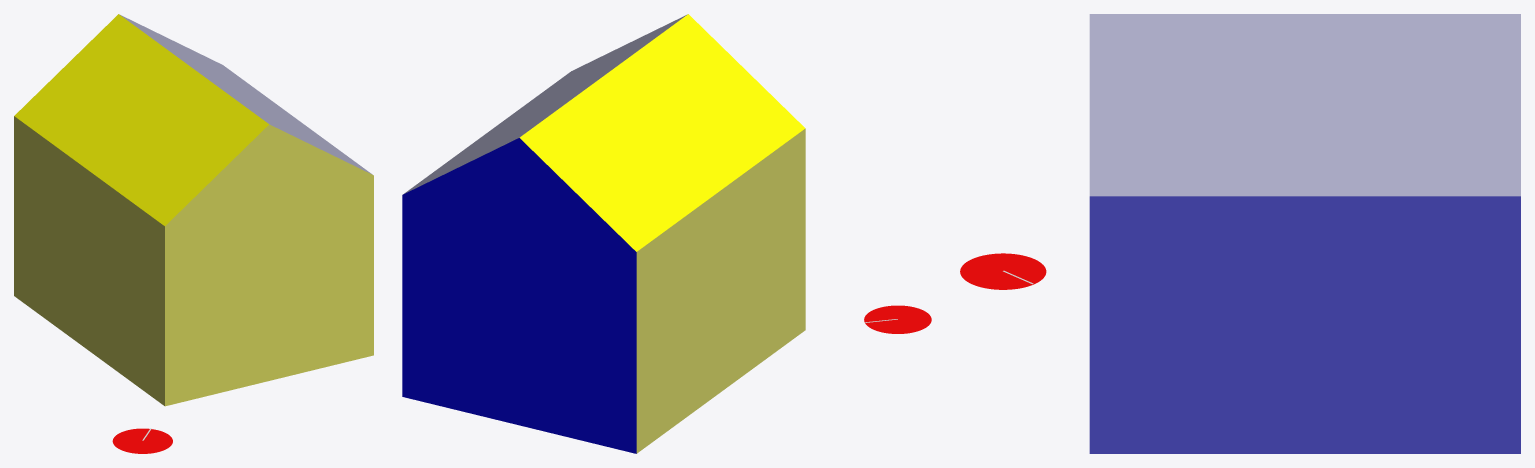
Rendered from result.glb.
3 views of the same model, side by side, from view 1: azimuth 30°, elevation 25°; view 2: azimuth 150°, elevation 25°; view 3: azimuth 270°, elevation 25° (orthographic). The views are drawn at different scales.
Visible parts, largest first — view 1: 21d01f9e-6631-4ebb-8f06-3e78cfd9009c__undefined, fc0cc7fd-1fd2-4110-b137-bfe90a9a3087__undefined, 5cc56b32-5431-49b6-925b-cc32357c32b8__undefined, d6b1267a-f302-4188-9b9b-a0d599488792__undefined, 9be124c2-e2e0-45ae-9527-0f17d10c6895__Circle; view 2: f9deed3e-4f41-4e24-9f95-9a001e9d4d2a__undefined, fc0cc7fd-1fd2-4110-b137-bfe90a9a3087__undefined, 5cc56b32-5431-49b6-925b-cc32357c32b8__undefined, d6b1267a-f302-4188-9b9b-a0d599488792__undefined, 9be124c2-e2e0-45ae-9527-0f17d10c6895__Circle; view 3: e8afe8ea-1251-4d71-b7dc-9ca1b11c2628__undefined, d6b1267a-f302-4188-9b9b-a0d599488792__undefined, 9be124c2-e2e0-45ae-9527-0f17d10c6895__Circle.
Boxes of the visible parts, x1=… form: 21d01f9e-6631-4ebb-8f06-3e78cfd9009c__undefined: x1=165, y1=124, x2=373, y2=406; fc0cc7fd-1fd2-4110-b137-bfe90a9a3087__undefined: x1=14, y1=116, x2=164, y2=405; 5cc56b32-5431-49b6-925b-cc32357c32b8__undefined: x1=14, y1=14, x2=268, y2=225; d6b1267a-f302-4188-9b9b-a0d599488792__undefined: x1=119, y1=14, x2=372, y2=174; 9be124c2-e2e0-45ae-9527-0f17d10c6895__Circle: x1=112, y1=428, x2=172, y2=453; f9deed3e-4f41-4e24-9f95-9a001e9d4d2a__undefined: x1=402, y1=138, x2=636, y2=453; fc0cc7fd-1fd2-4110-b137-bfe90a9a3087__undefined: x1=636, y1=128, x2=805, y2=453; 5cc56b32-5431-49b6-925b-cc32357c32b8__undefined: x1=519, y1=14, x2=805, y2=251; d6b1267a-f302-4188-9b9b-a0d599488792__undefined: x1=403, y1=14, x2=687, y2=194; 9be124c2-e2e0-45ae-9527-0f17d10c6895__Circle: x1=864, y1=305, x2=931, y2=333; e8afe8ea-1251-4d71-b7dc-9ca1b11c2628__undefined: x1=1089, y1=196, x2=1520, y2=453; d6b1267a-f302-4188-9b9b-a0d599488792__undefined: x1=1089, y1=14, x2=1520, y2=196; 9be124c2-e2e0-45ae-9527-0f17d10c6895__Circle: x1=960, y1=253, x2=1046, y2=289.
Bounding box in the file's own units: 550 × 469 × 650.
